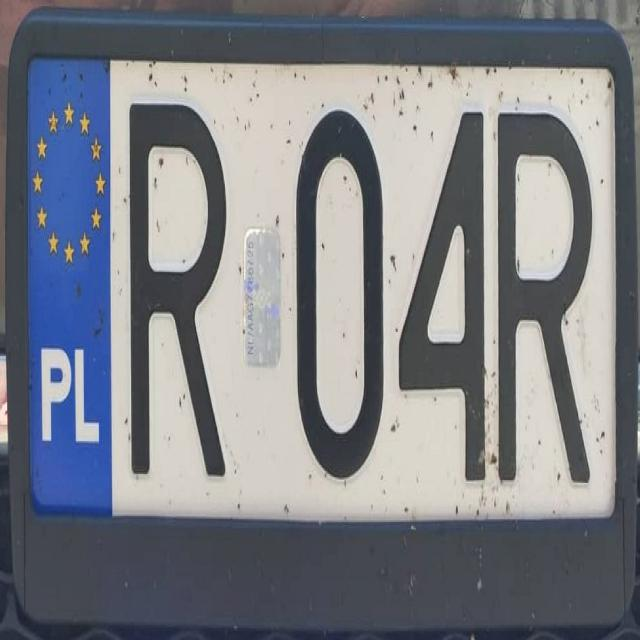pl_license_plate: (26, 57, 614, 513)
